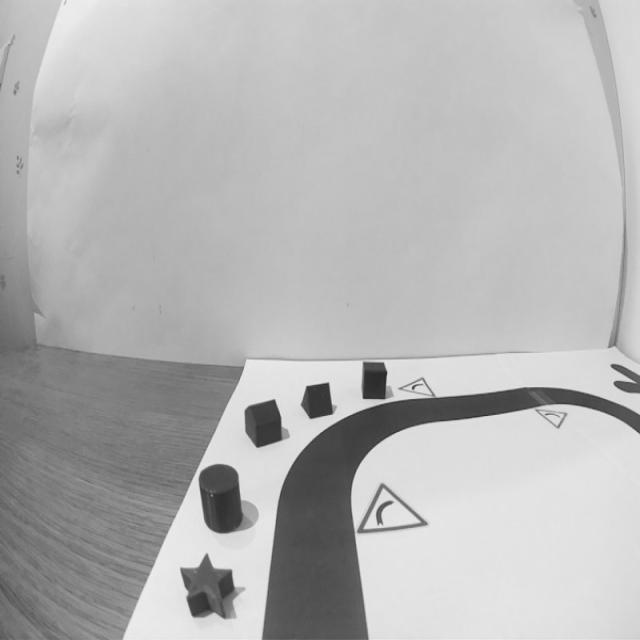cube: (359, 359, 391, 402)
cylinder: (195, 461, 247, 536)
home: (242, 395, 284, 449)
laneRight: (270, 424, 366, 550)
lineStraight: (256, 543, 377, 640)
rightTurn: (346, 464, 434, 546)
star: (176, 549, 238, 626)
triangle: (298, 377, 335, 422)
